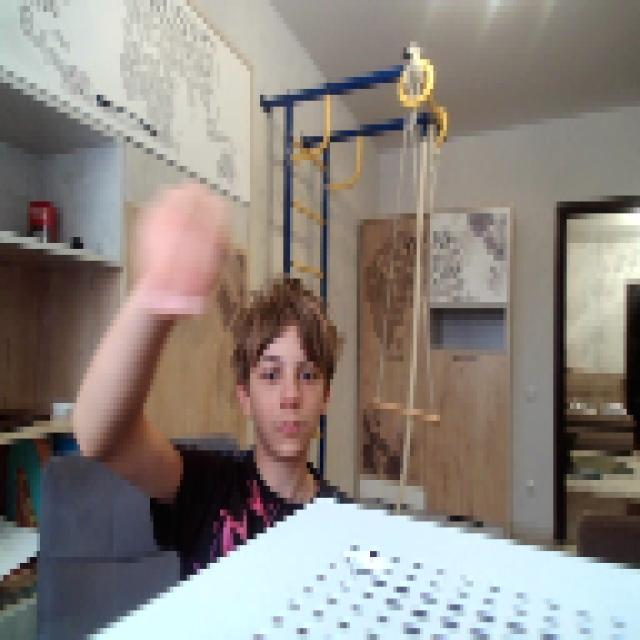left_click: (137, 166, 230, 314)
